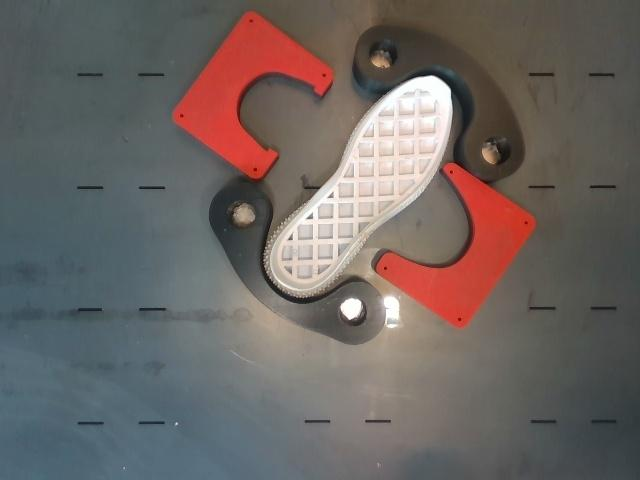shoes: (270, 77, 451, 290)
